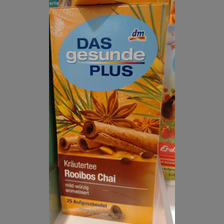tea: (49, 3, 172, 223)
